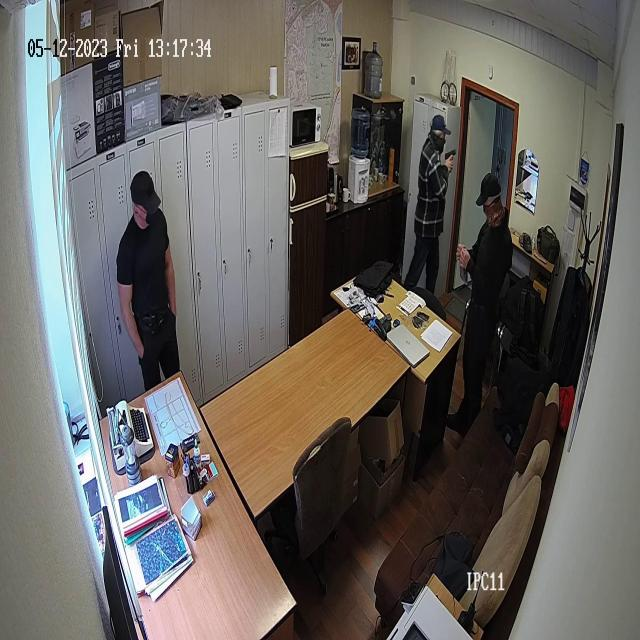gun: (115, 166, 181, 389), (459, 164, 514, 408), (416, 110, 459, 286), (444, 149, 457, 164)
